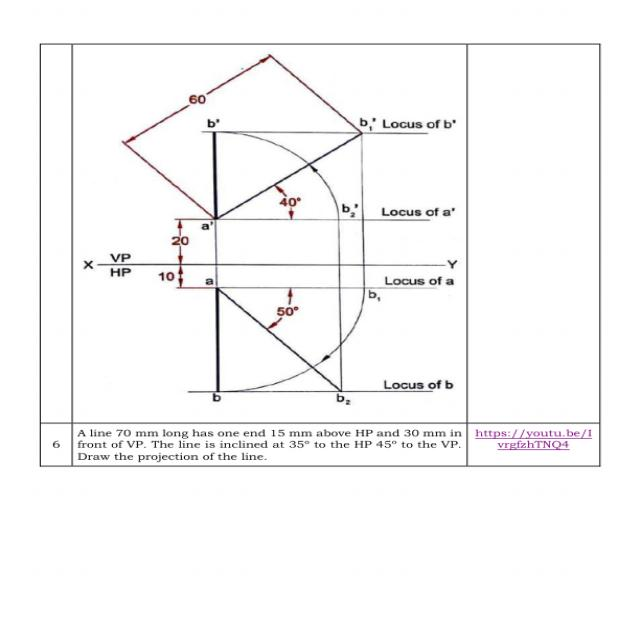Drawings: (76, 50, 462, 416)
